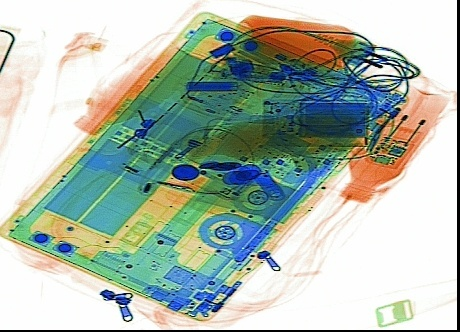powerbank: (257, 94, 371, 147)
